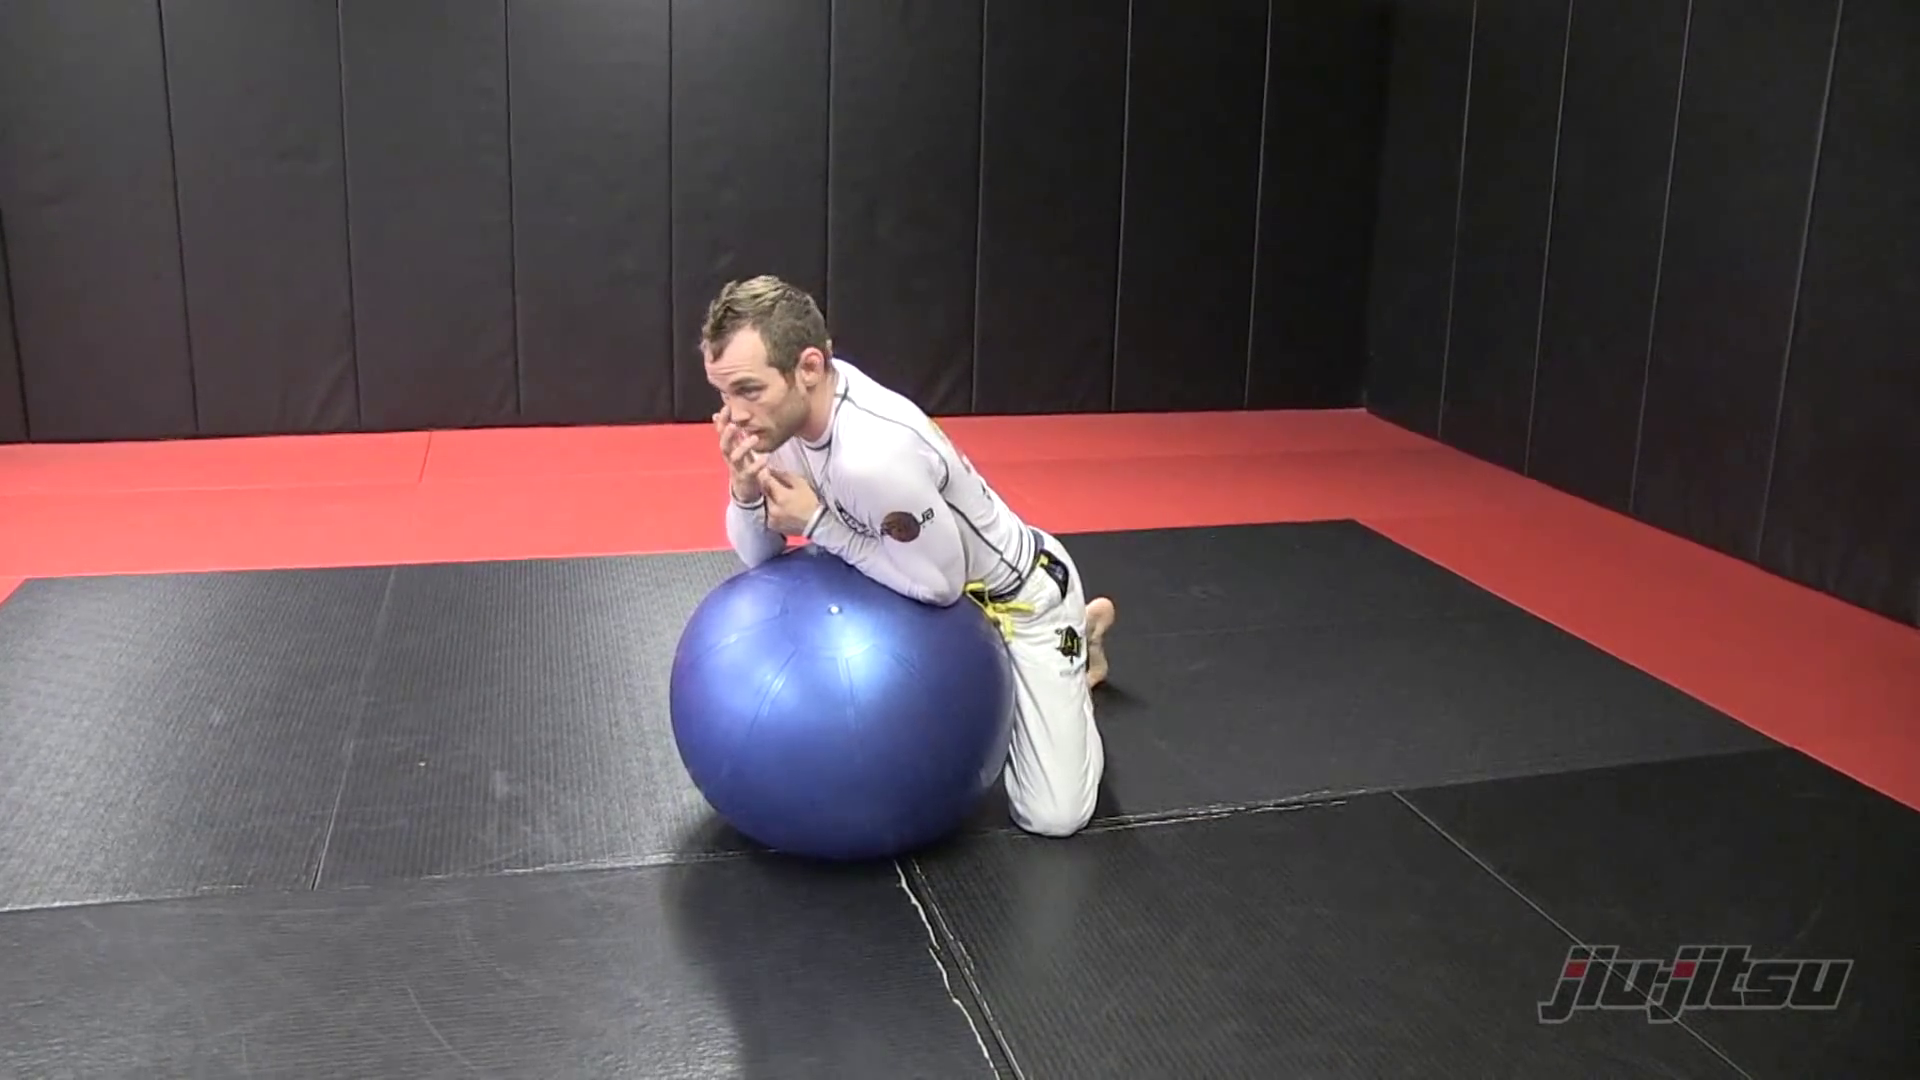yogaball: (638, 538, 1022, 884)
